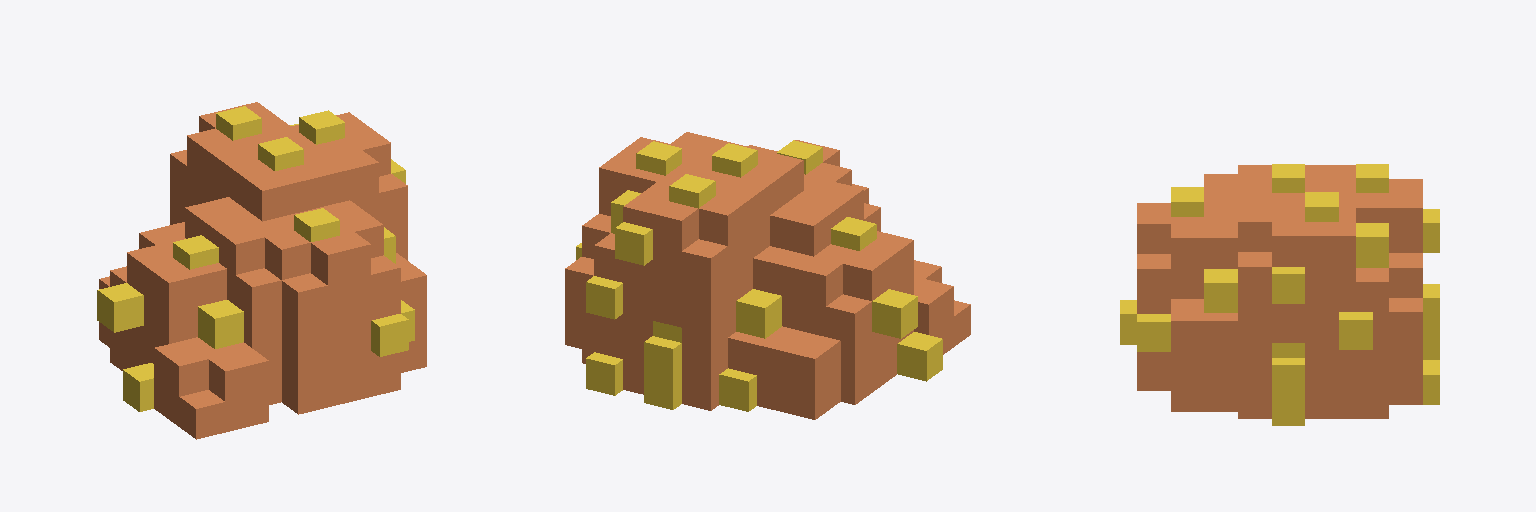
3 renders of one model, left to right at view 1: azimuth 30°, elevation 25°; view 2: azimuth 150°, elevation 25°; view 3: azimuth 270°, elevation 25°, orthographic.
Visible parts, largest first — view 1: Blue-1; view 2: Blue-1; view 3: Blue-1.
Part boxes in pixels (x1,y1,x2,y2): Blue-1: (97, 102, 426, 439); Blue-1: (565, 132, 970, 419); Blue-1: (1120, 164, 1439, 425).
Bounding box in the file's own units: 20 × 13 × 19.
1 materials, 1 textured.